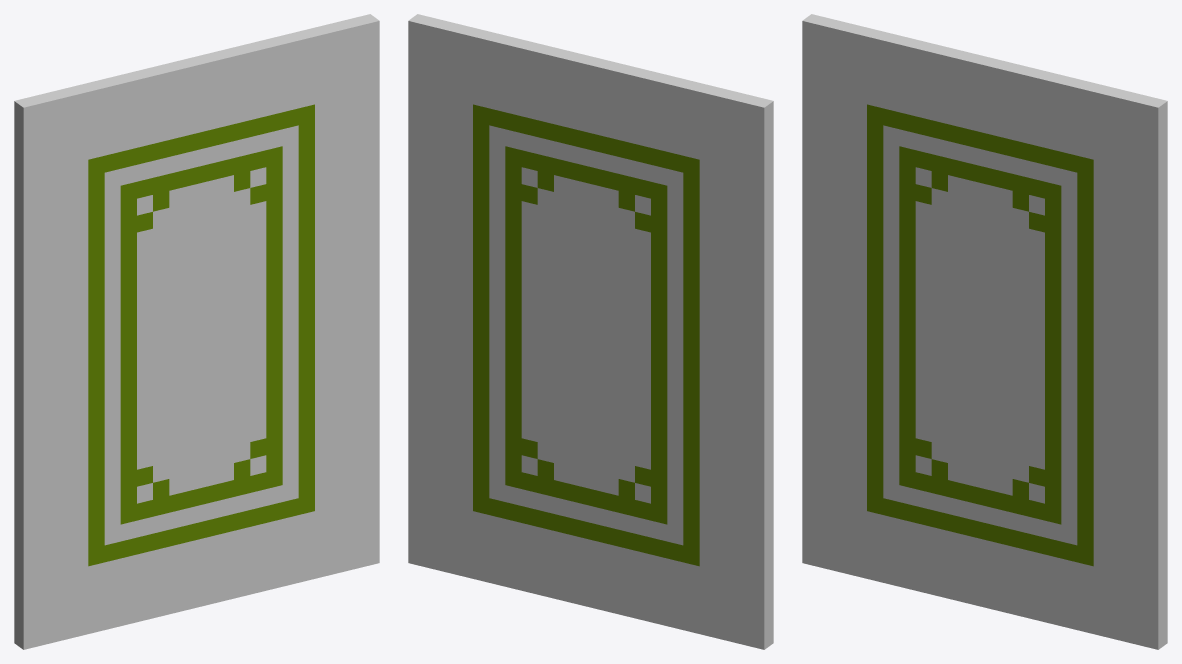
3 renders of one model, left to right at view 1: azimuth 30°, elevation 25°; view 2: azimuth 150°, elevation 25°; view 3: azimuth 330°, elevation 25°, orthographic.
Size of the model in its own units: 1.1 by 1.6 by 0.05.
